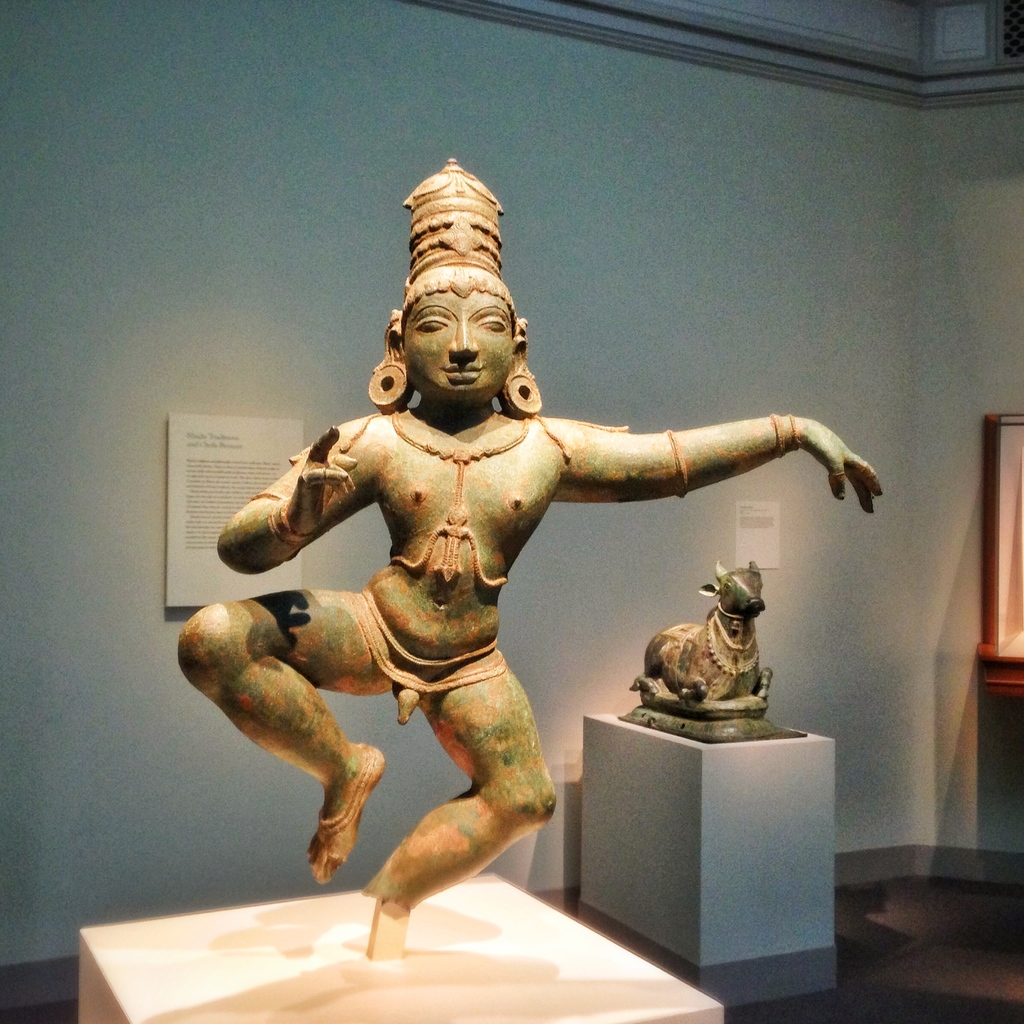Animal: (619, 566, 804, 742)
